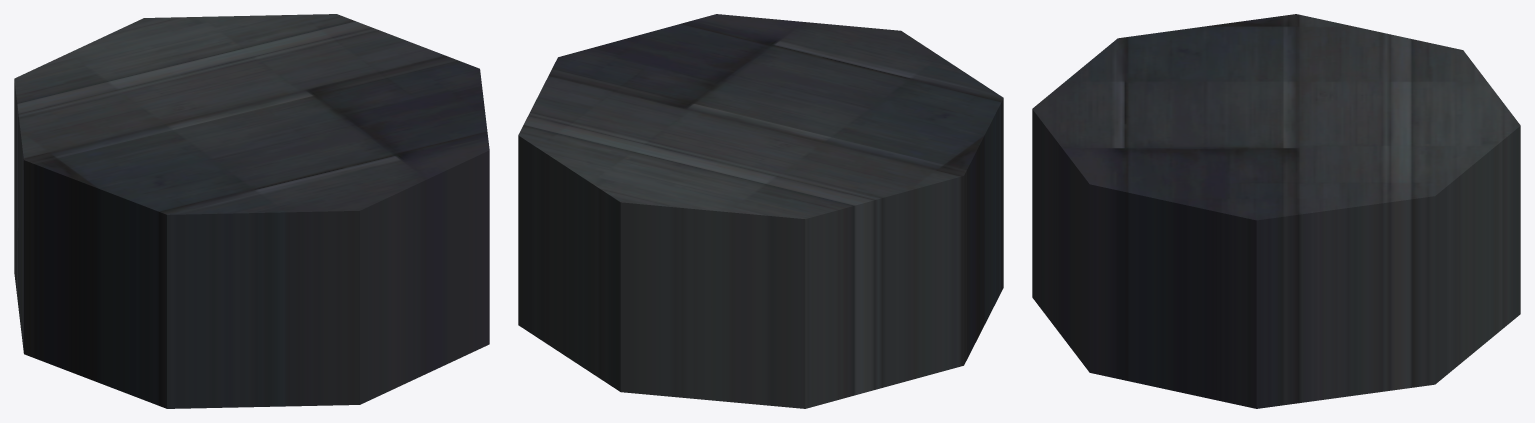
File: BaseDec_1.gltf
3 views of the same model, side by side, from view 1: azimuth 30°, elevation 25°; view 2: azimuth 150°, elevation 25°; view 3: azimuth 270°, elevation 25° (orthographic). The views are drawn at different scales.
Visible parts, largest first — view 1: BaseDec_1; view 2: BaseDec_1; view 3: BaseDec_1.
Boxes of the visible parts, left/top/right/bottom form: BaseDec_1: left=14, top=14, right=489, bottom=408; BaseDec_1: left=518, top=14, right=1003, bottom=408; BaseDec_1: left=1032, top=14, right=1520, bottom=408.
Size of the model in its own units: 2.81 by 1.2 by 2.81.
Materials: 1 (1 with a texture image).
